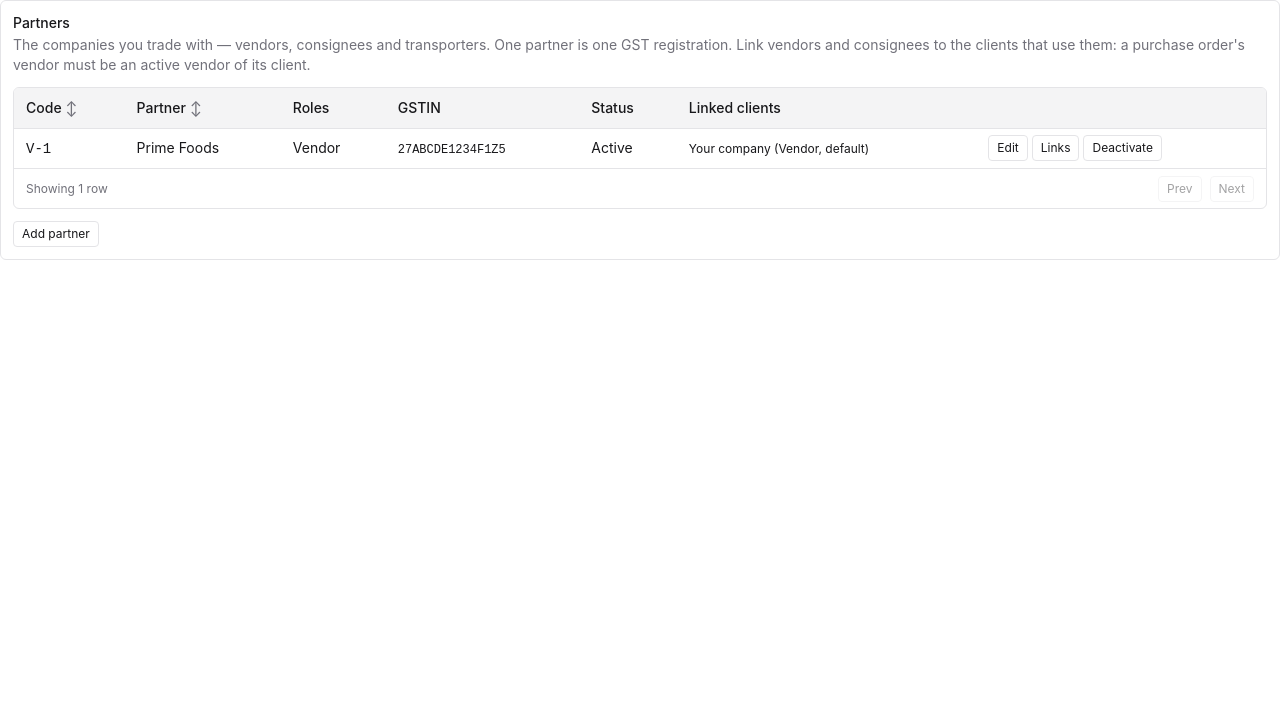
PartnersCard › Link POSTs the client, role and default flag to the partner's links path
Click the button "Links" at [1056, 148], box [1032,135,1080,161]
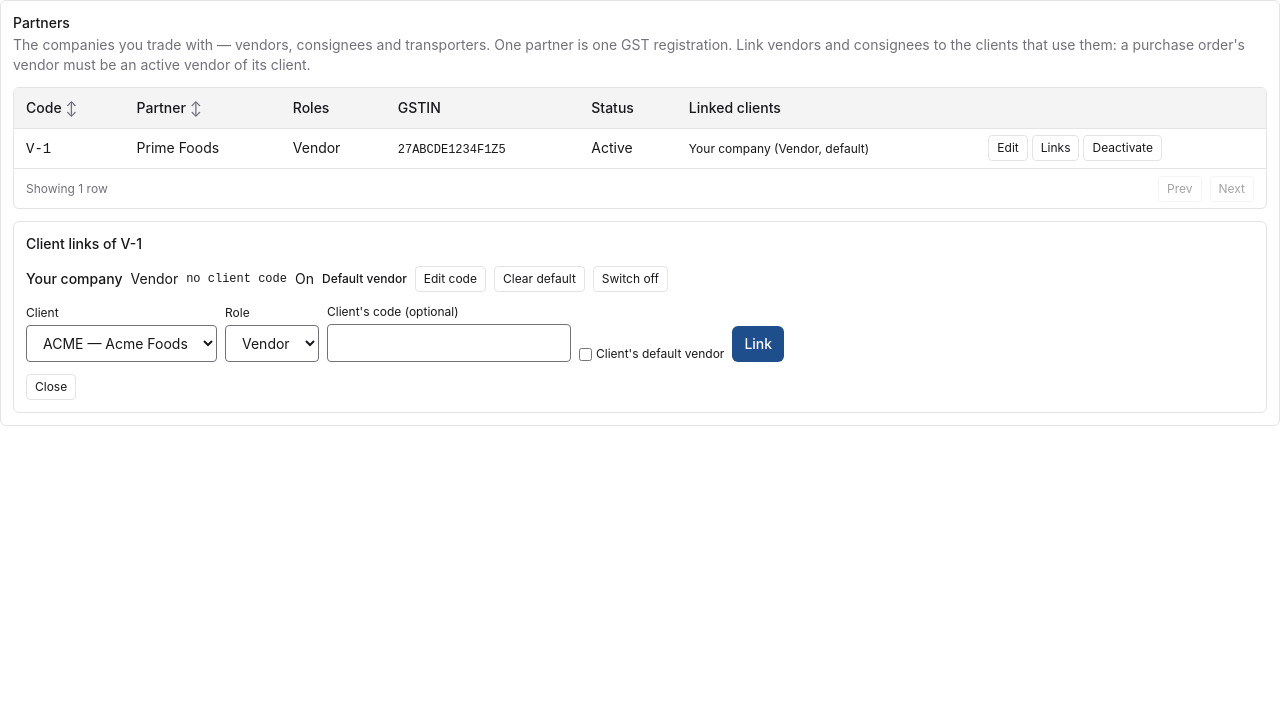
Select "ACME — Acme Foods" in the dropdown labelled "Client" at [122, 344], box [26,325,217,362]
Click the checkbox labelled "Client's default vendor" at [586, 354], box [579,348,592,360]
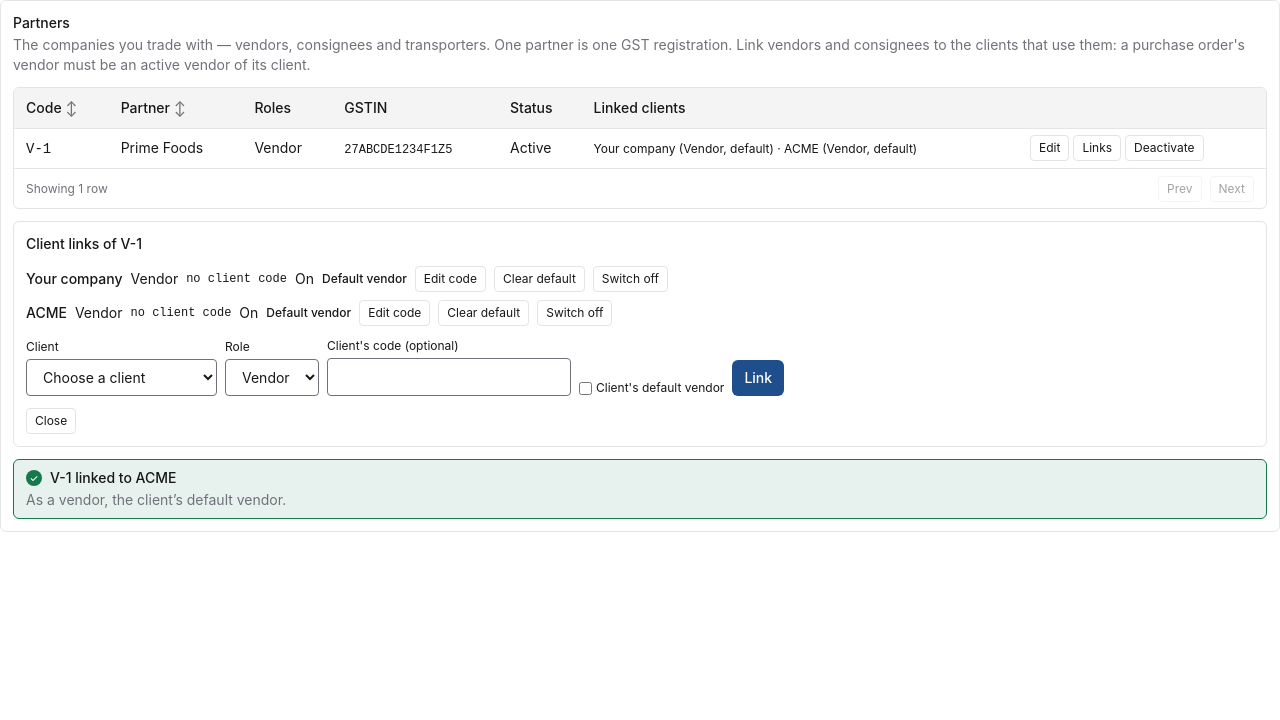
Check: the text "ACME (Vendor, default)" is shown, box [594,141,917,156]
